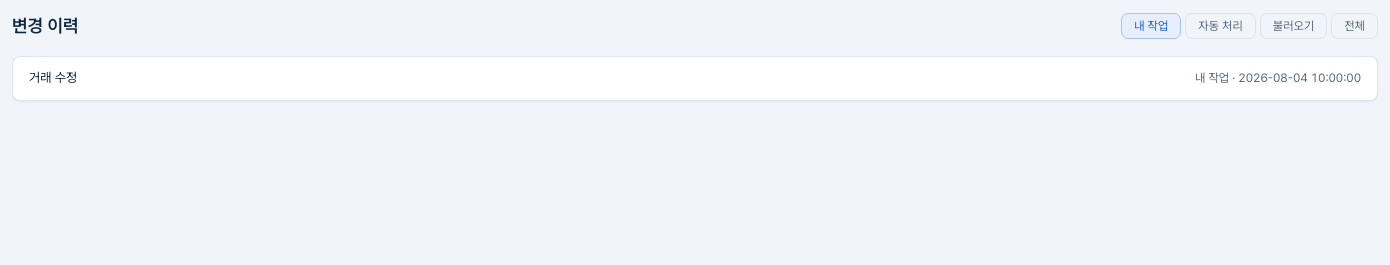
Scenario: D. 되돌리기 버튼 › D-6. 실패하면 사유를 알린다
Click the button "거래 수정 내 작업 · 2026-08-04 10:00:00". click: (53, 78)
box: [29,69,1361,88]
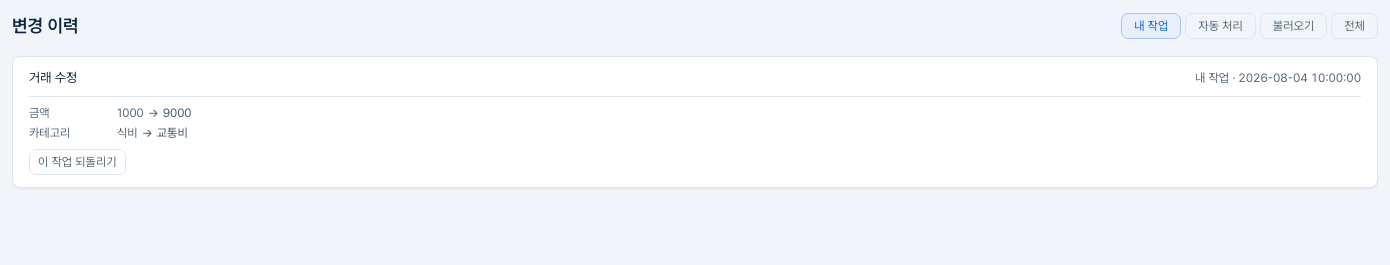
Click the button "이 작업 되돌리기". click: (77, 162)
box: [29,149,126,175]
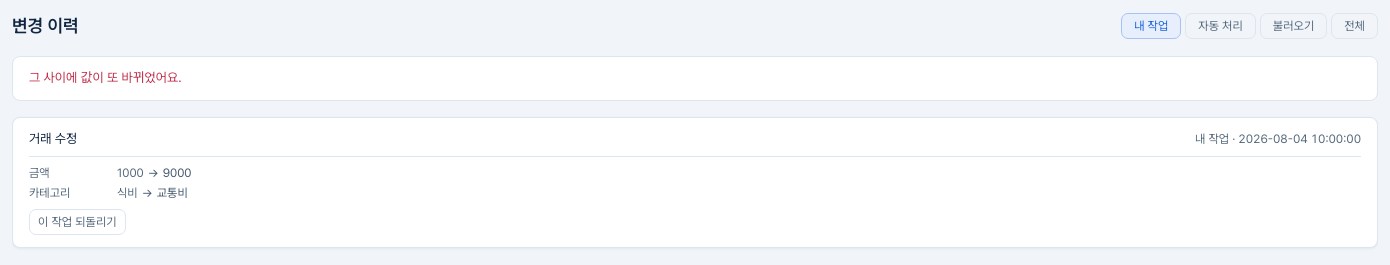
Expected: the text "그 사이에 값이 또 바뀌었어요." is shown, [12,56,1378,101]
